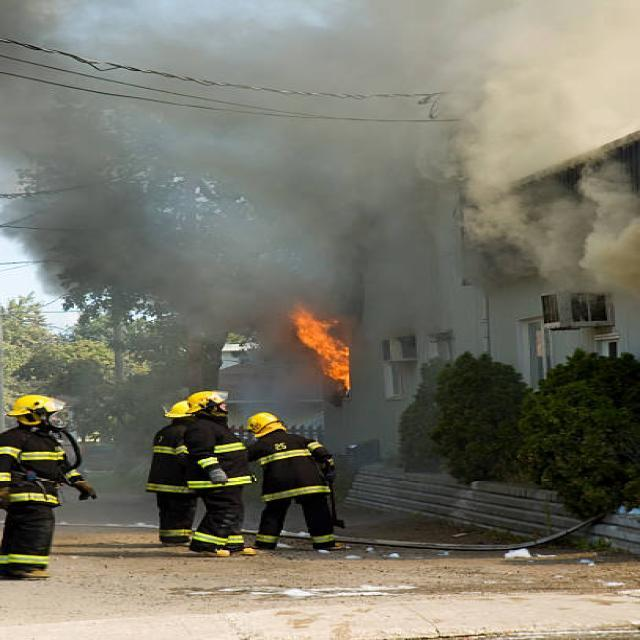Fire: (286, 303, 360, 387)
Smoke: (364, 0, 639, 303)
